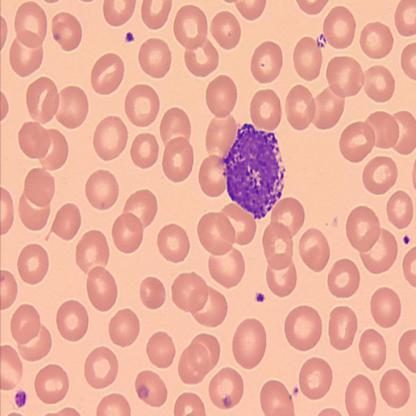Basophil: (222, 120, 288, 221)
